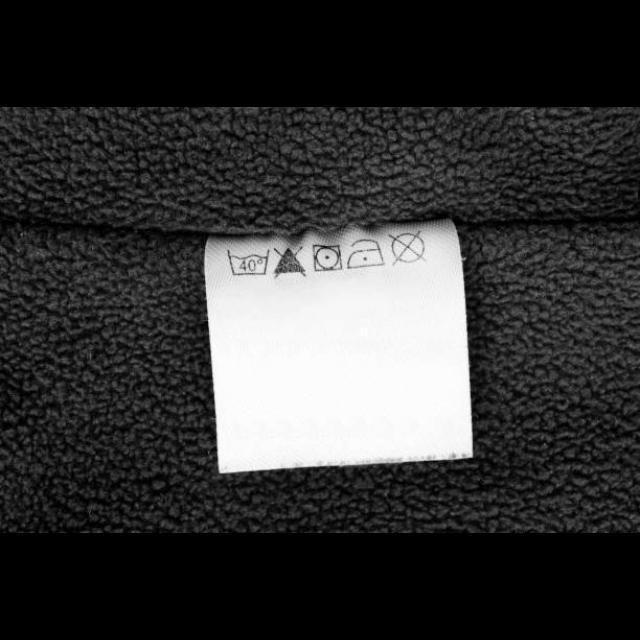40C: (224, 246, 272, 278)
DN_bleach: (269, 243, 309, 281)
DN_dry_clean: (386, 228, 430, 268)
iron_low: (346, 237, 386, 271)
tumble_dry_low: (311, 241, 344, 273)
